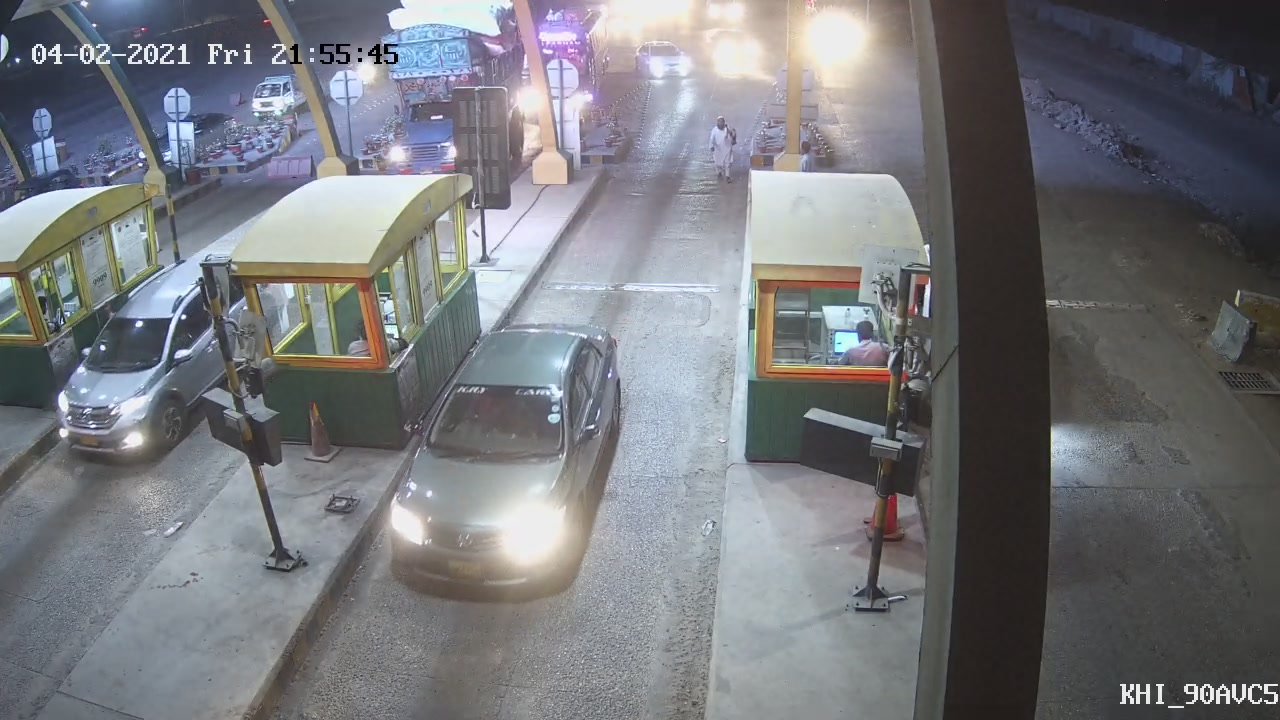F1: (378, 316, 627, 599)
